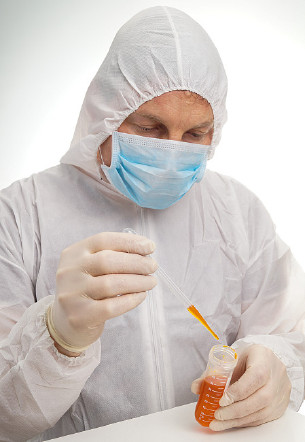face_mask: (116, 75, 212, 209)
